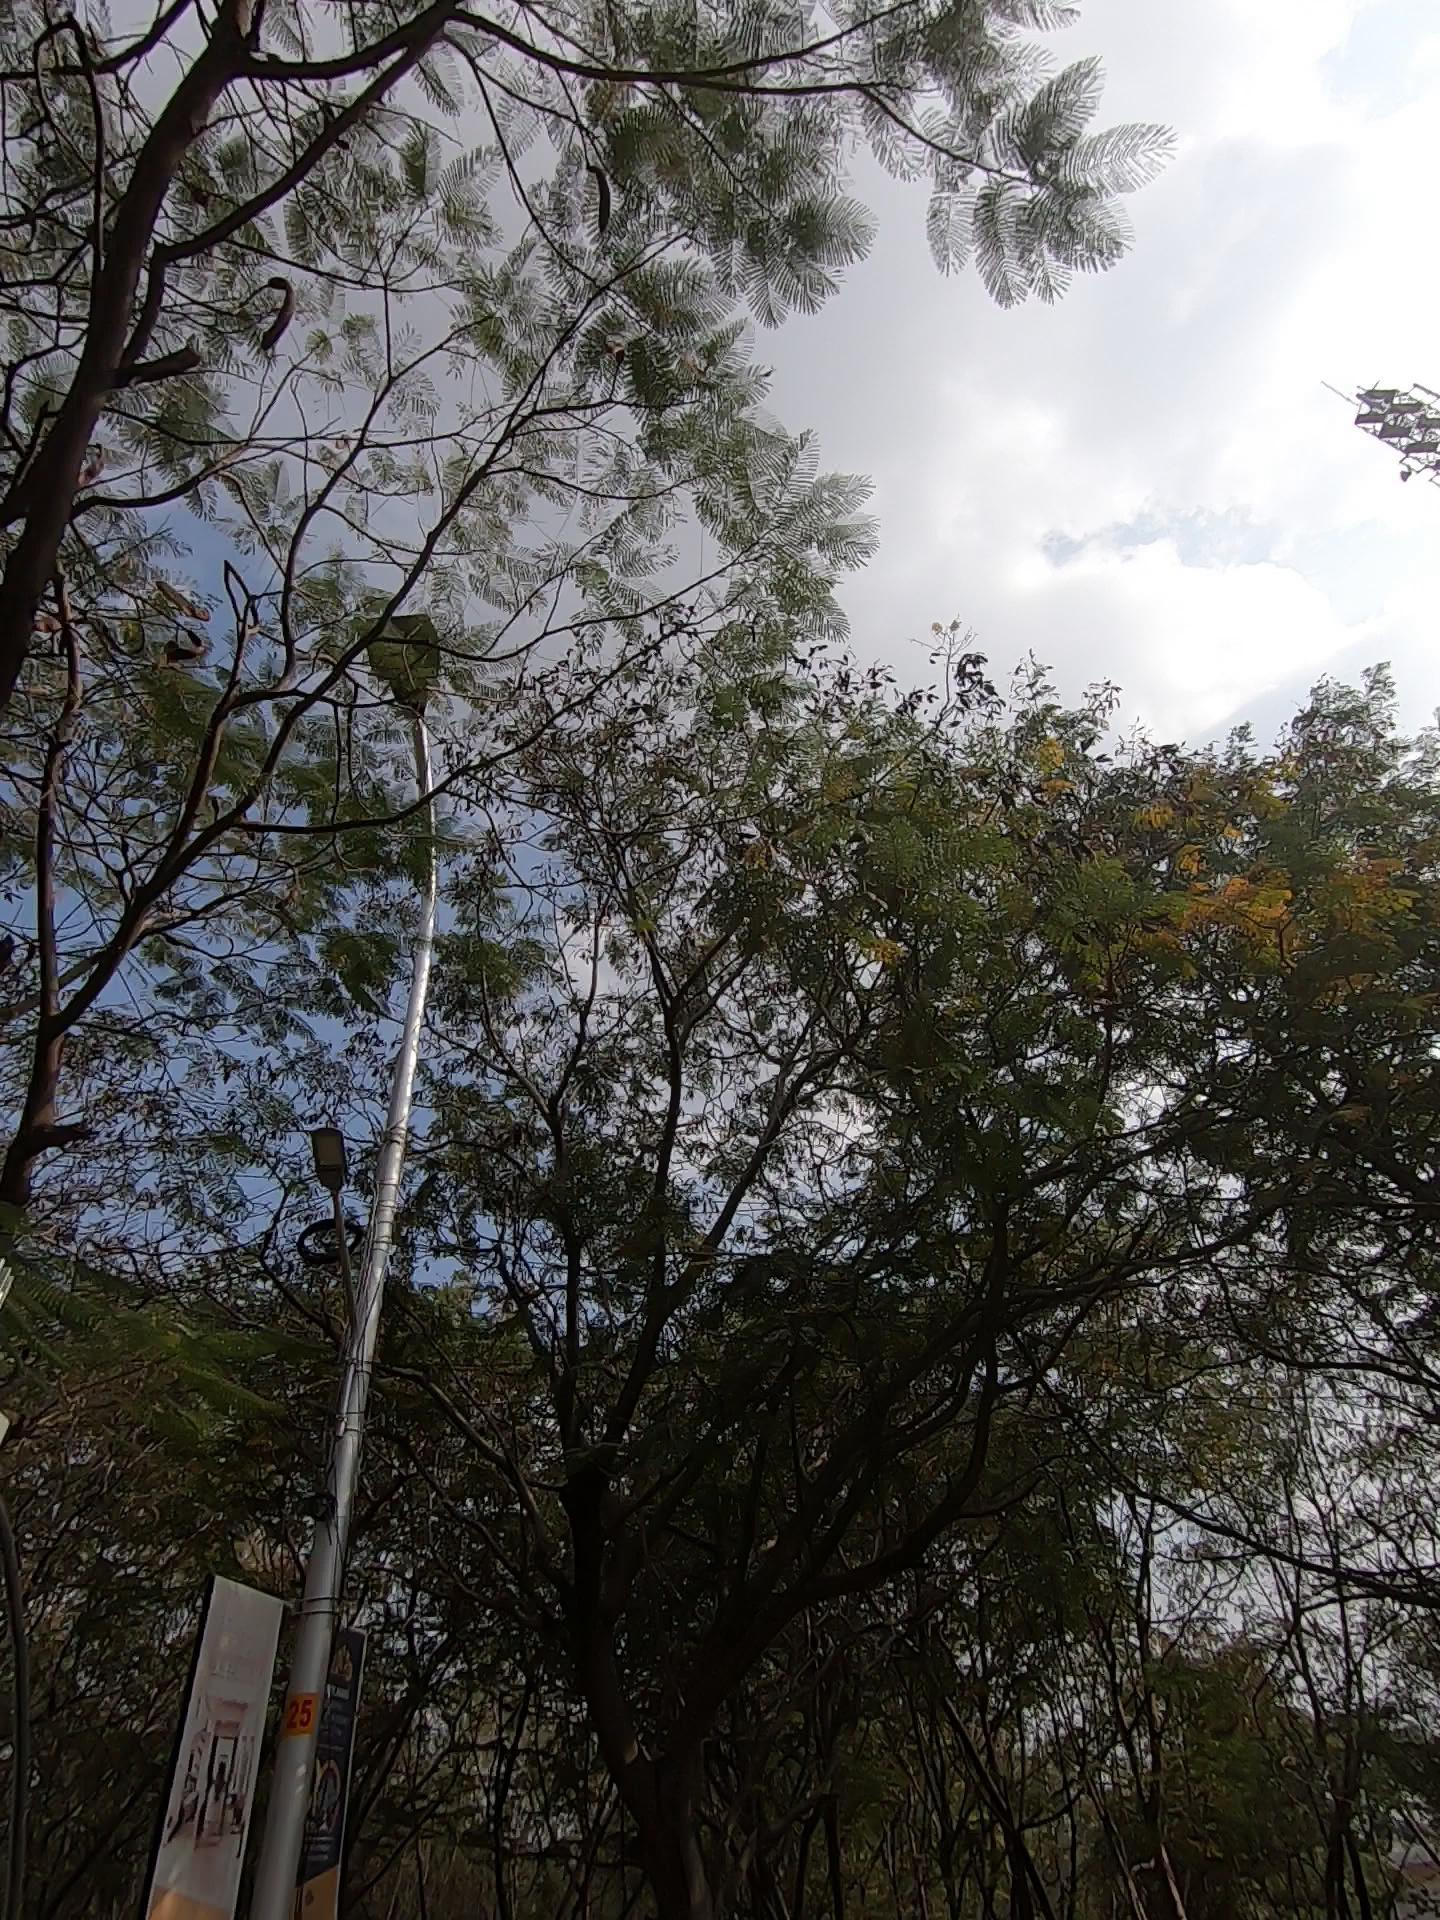off: (306, 531, 540, 936)
